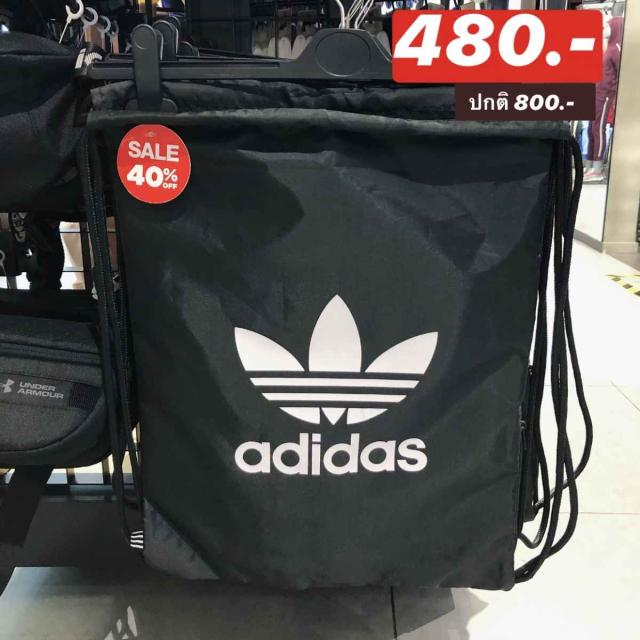Handbag: (86, 111, 624, 615)
